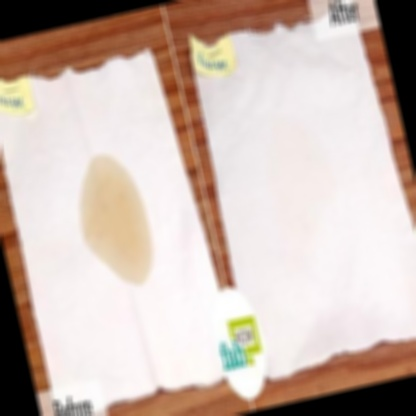coffee: (76, 159, 153, 268)
